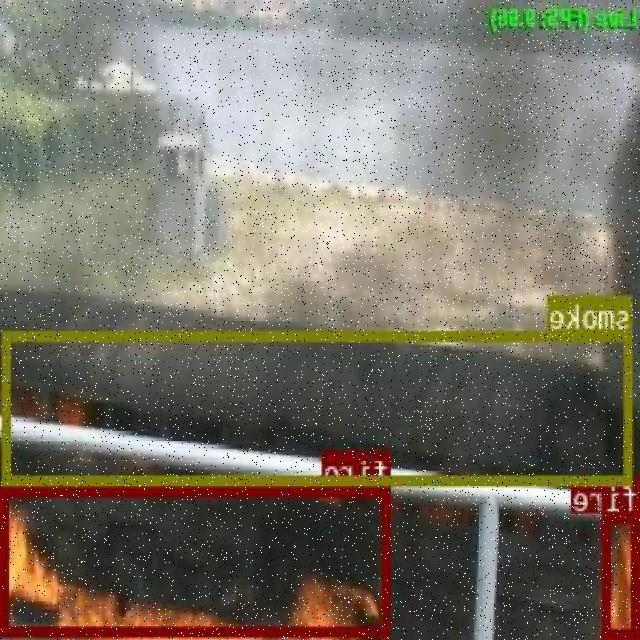smoke: (4, 331, 634, 484)
